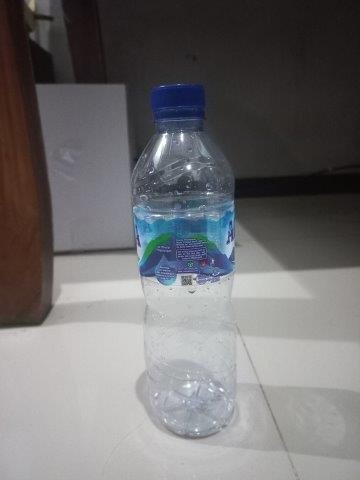botolplastik: (131, 81, 238, 436)
